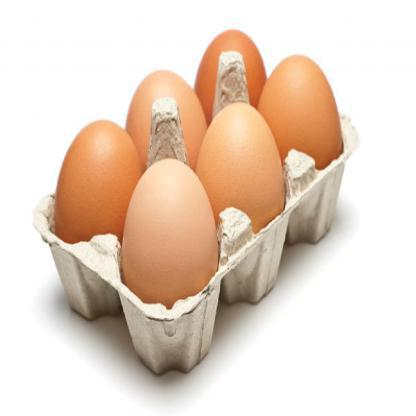egg: (119, 160, 219, 335), (48, 82, 140, 270), (187, 14, 286, 150), (194, 115, 286, 246), (260, 56, 346, 180), (123, 59, 208, 171)
